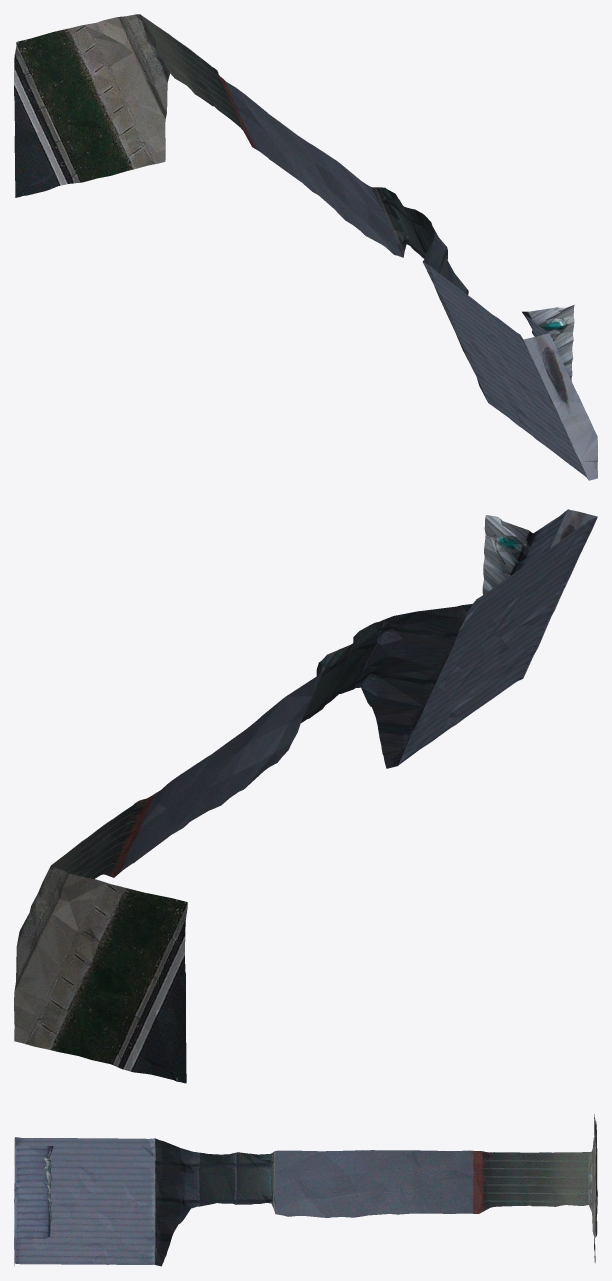
File: Tile_+004_+006_L22_00230.obj
The picture shows the model from 3 angles, top to bottom: view 1: azimuth 30°, elevation 25°; view 2: azimuth 150°, elevation 25°; view 3: azimuth 270°, elevation 25°; orthographic projection. The views are drawn at different scales.
Bounding box in the file's own units: 3.81 × 3.81 × 19.17.
1 material, 1 textured.
